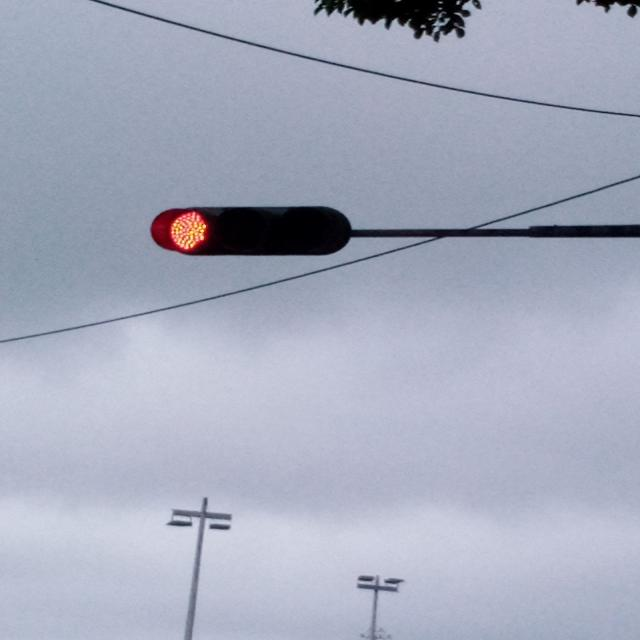red light: (152, 207, 352, 256)
